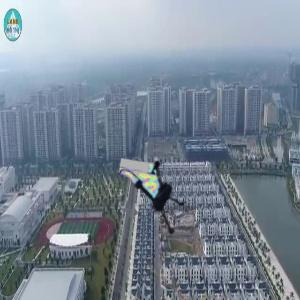drone: (116, 158, 204, 246)
